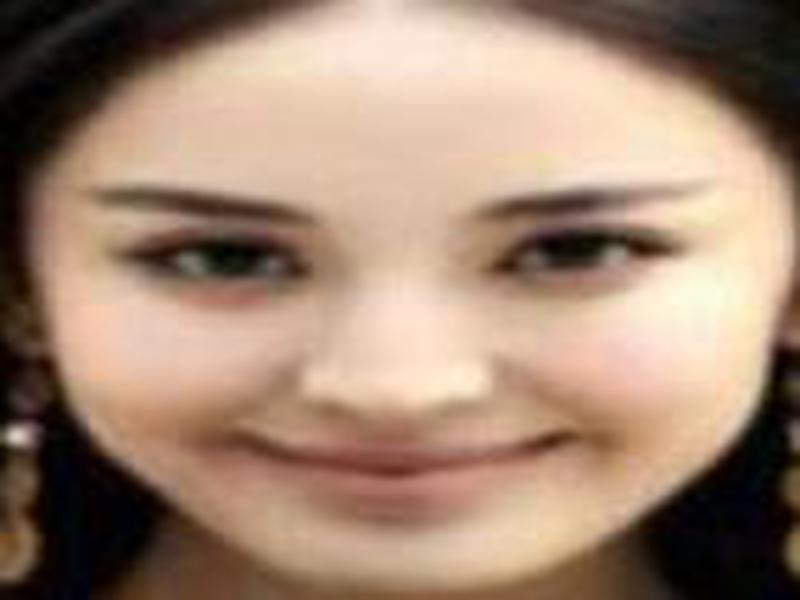without_mask: (33, 70, 782, 587)
